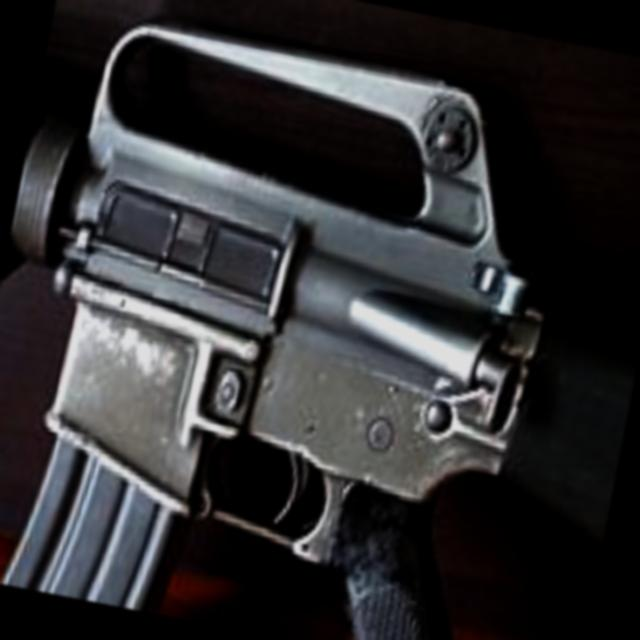m16: (51, 20, 630, 612)
